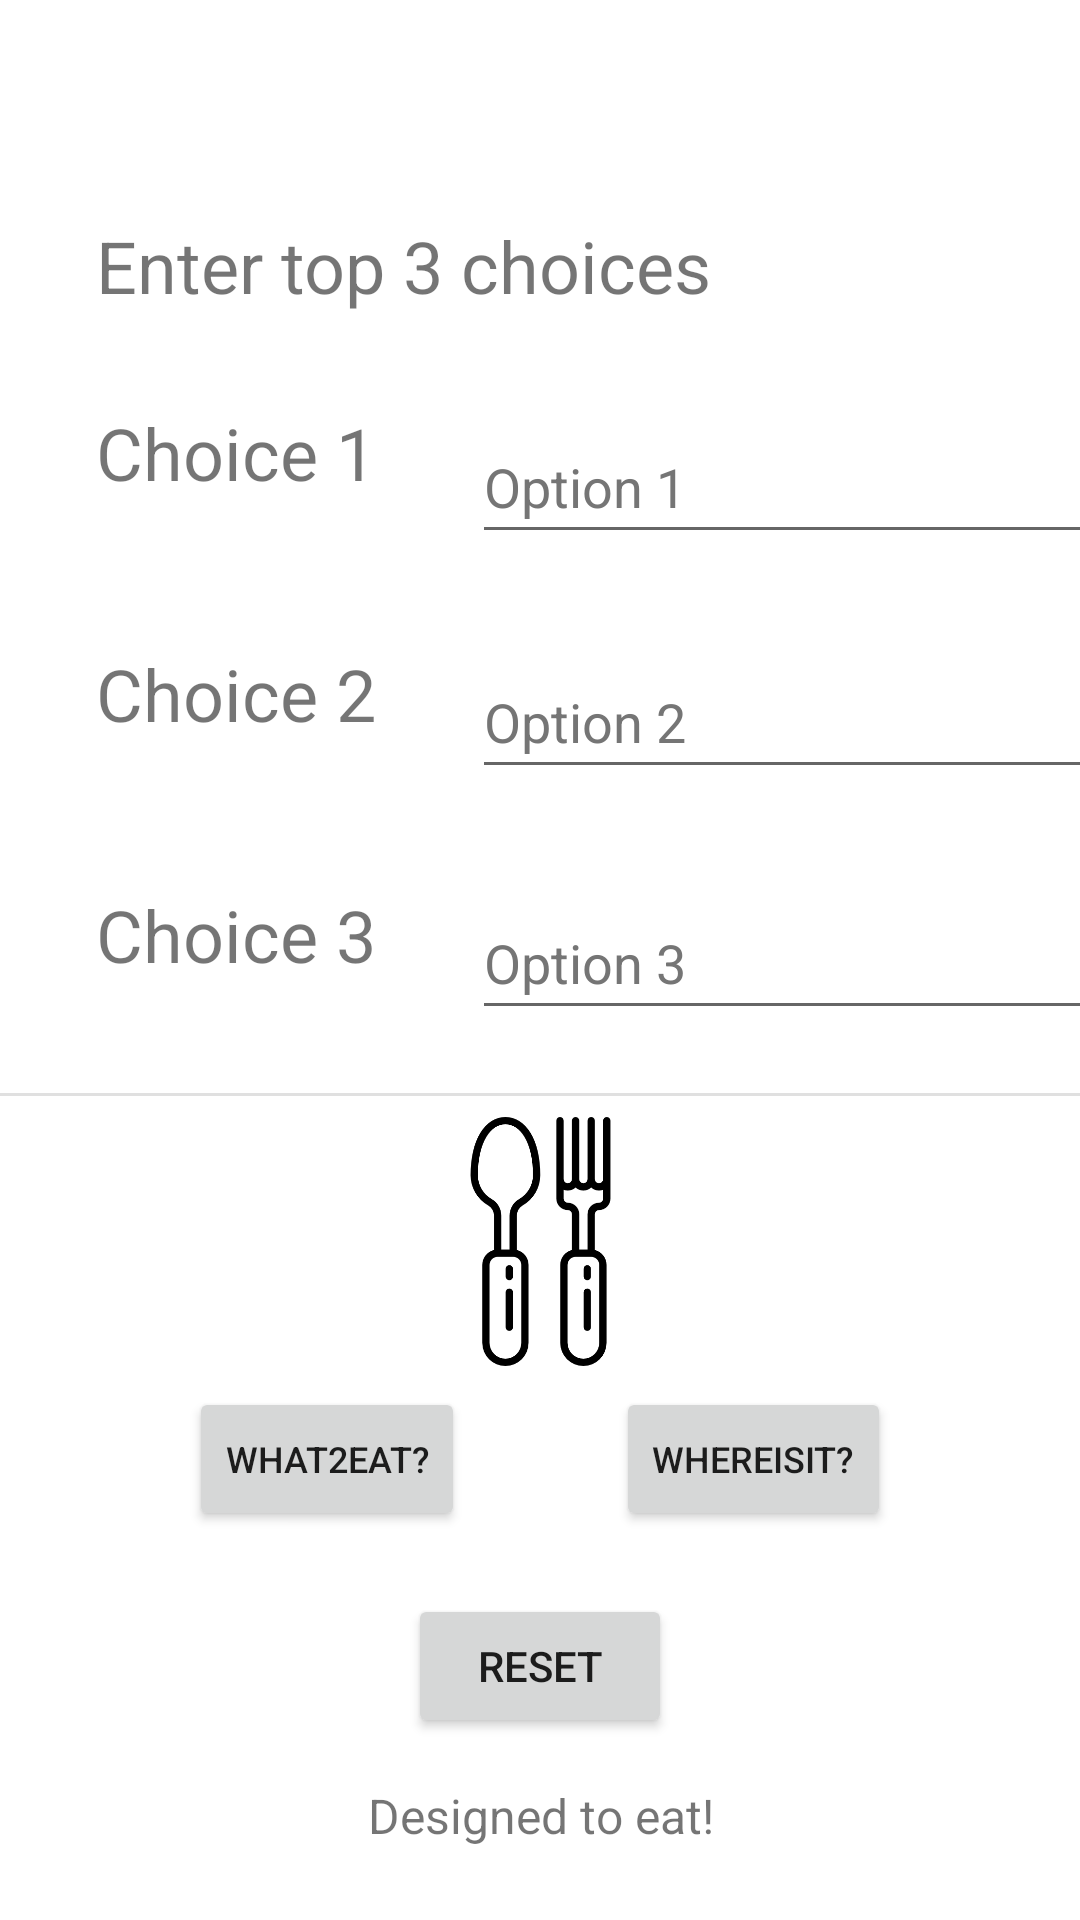

Where to tap for icons on this 1080w x 1920h app screen, as (x=x, y=y):
fork and spoon: (x=540, y=1241)
